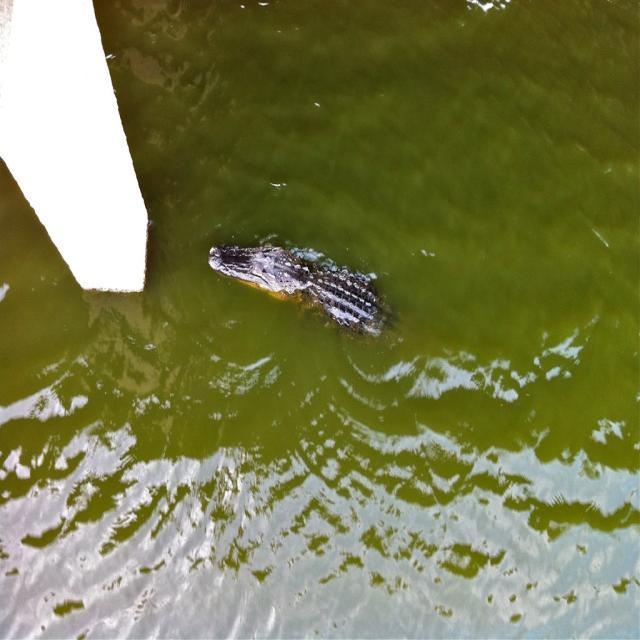crocodile: (193, 213, 429, 373)
